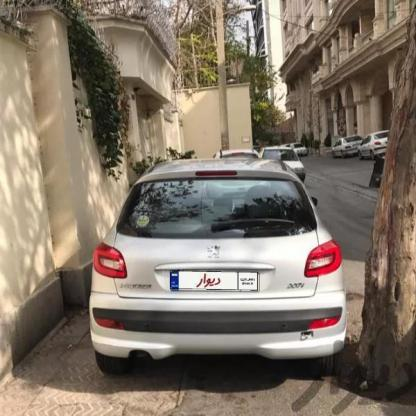Car: (75, 154, 351, 380), (253, 149, 305, 187), (358, 132, 393, 170), (334, 133, 359, 165), (288, 142, 310, 155)
